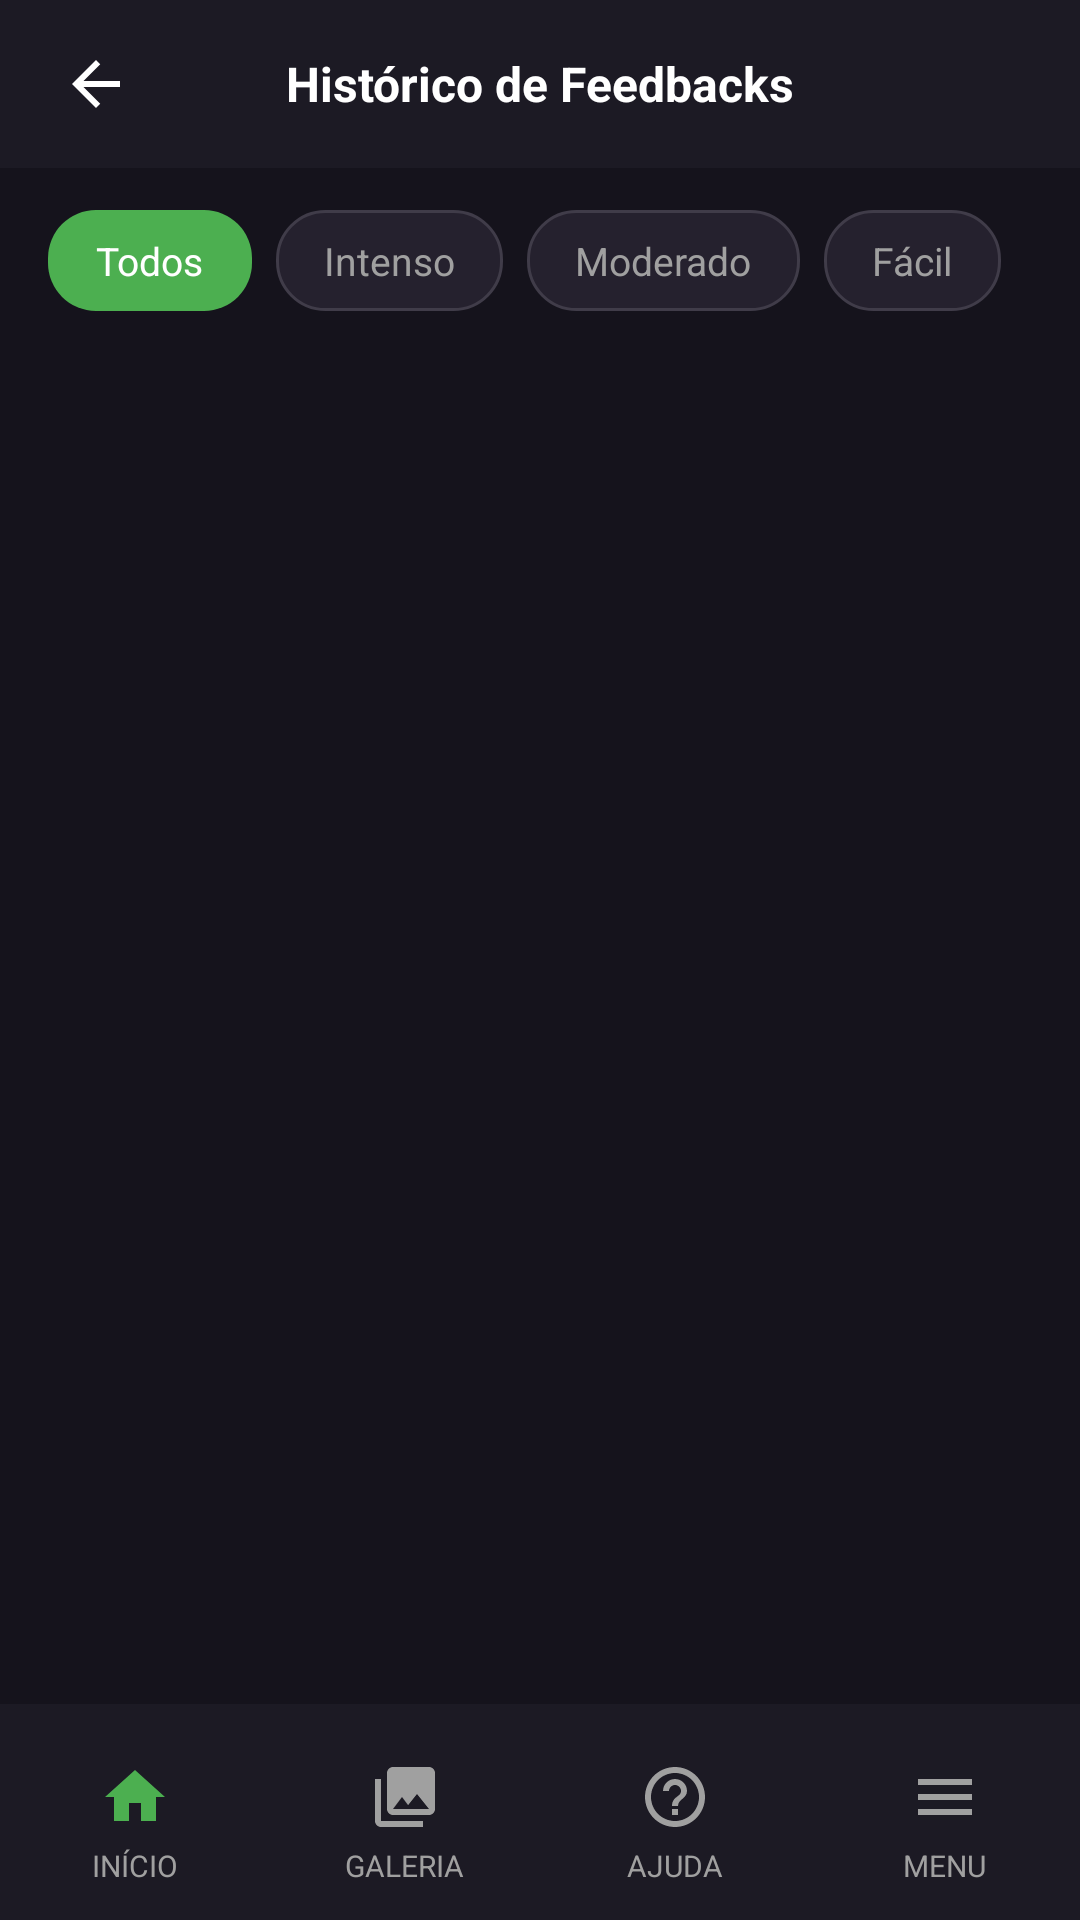

Point at icon controls on the screen. Image size 1080 × 1920, points as [x,y].
arrow back: [96,84]
list: [945,1797]
